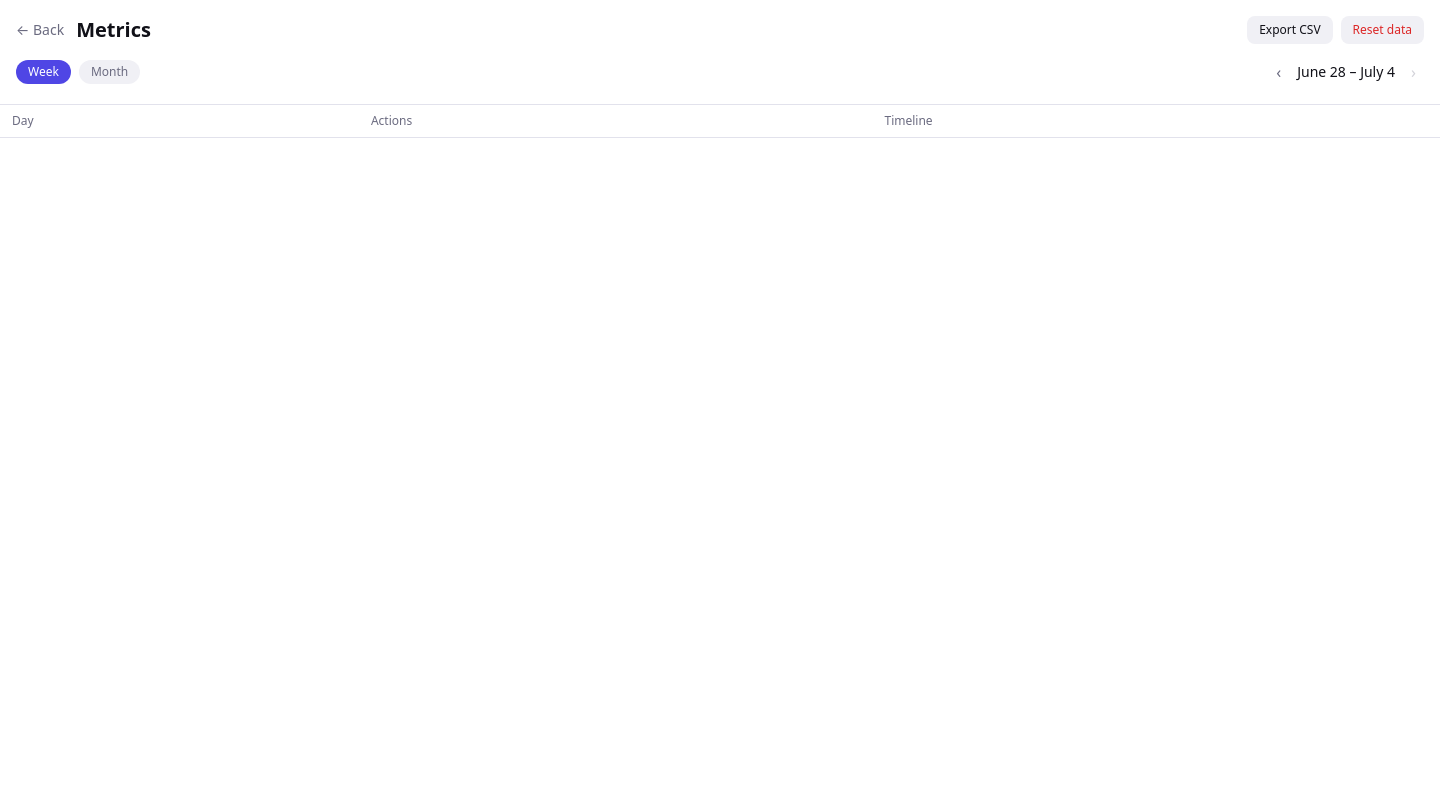
Test: MetricsView › reset dialog › delete button is disabled until DELETE is typed
Click the button "Reset data". click: [1382, 30]
box: [1341,16,1424,44]
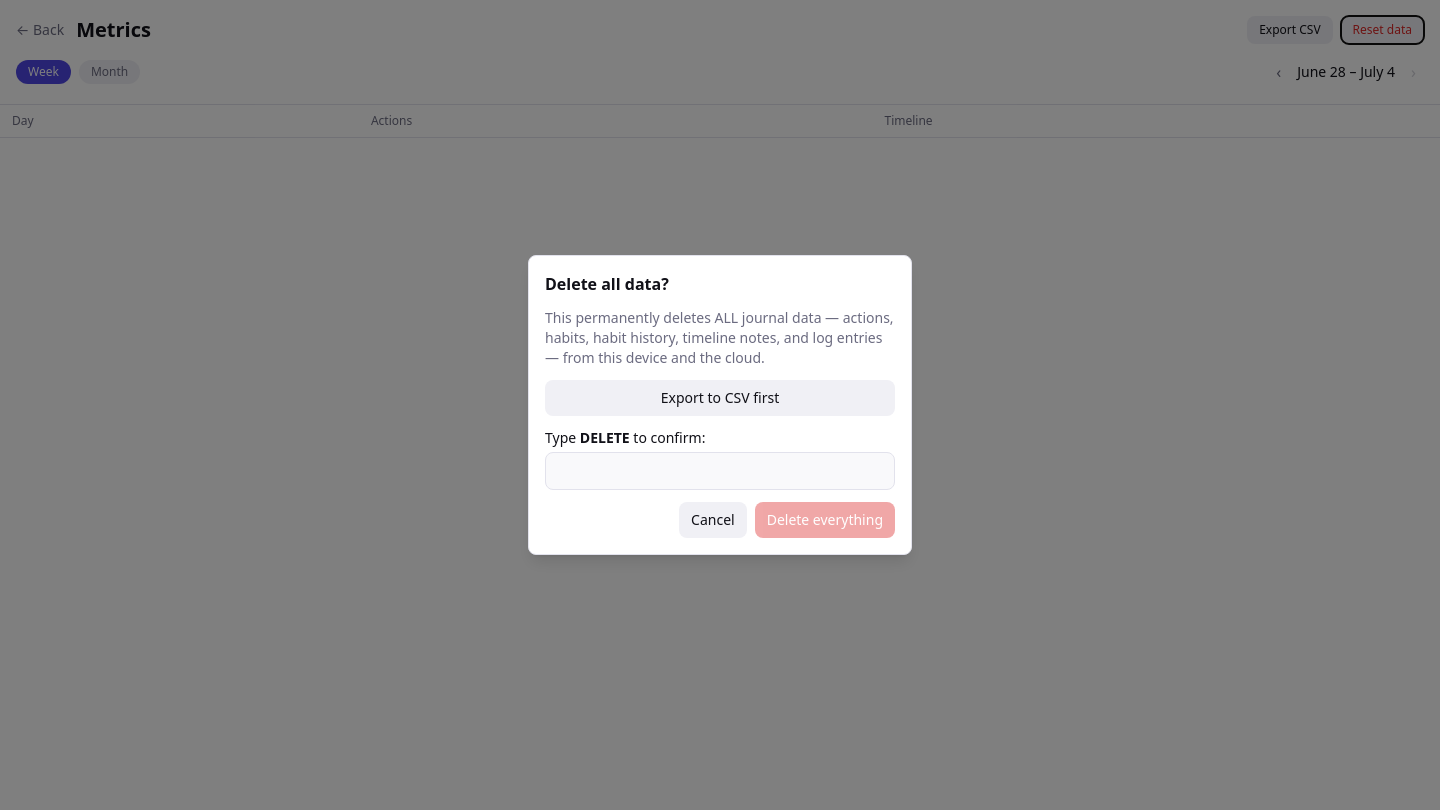
Now the button "Delete everything" is disabled, box [755,502,895,538]
Type "DELETE" into the field labelled "Type DELETE to confirm:". click: [720, 471]
box: [545,452,895,490]
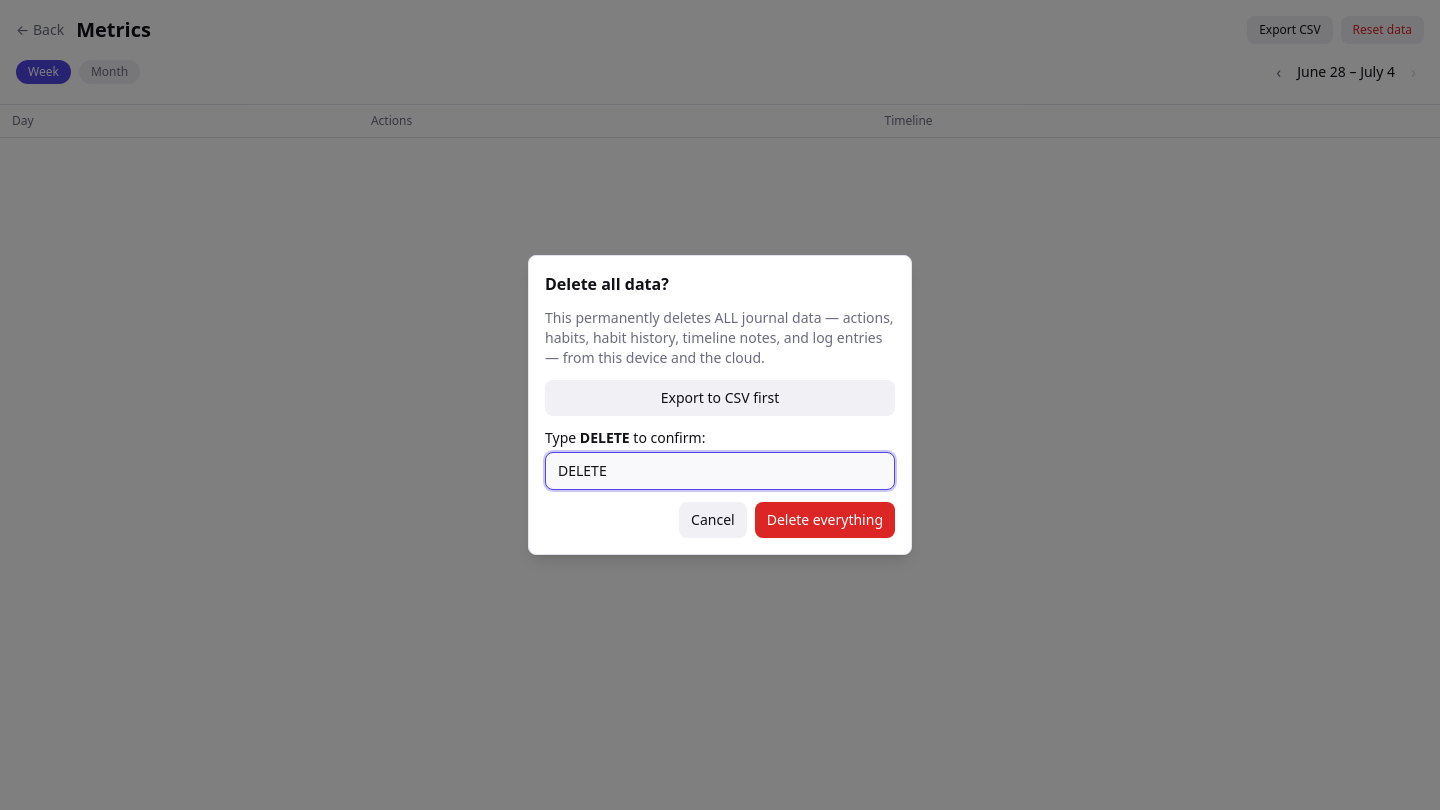
Now the button "Delete everything" is enabled, box [755,502,895,538]
